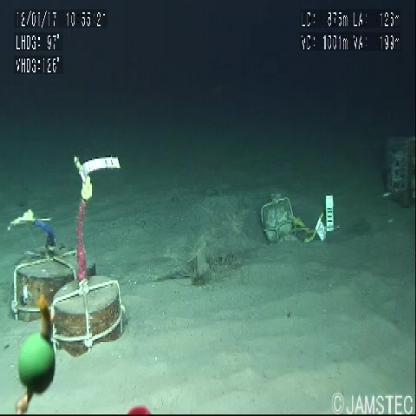Rác: (162, 234, 234, 298)
